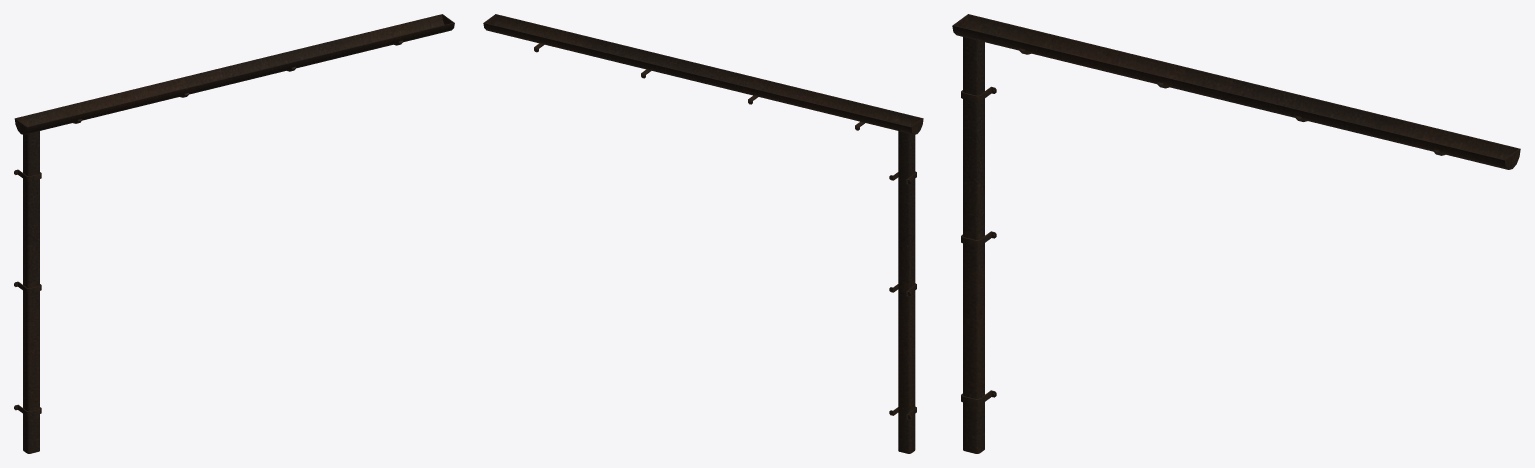
File: rainwater_pipe_hl_1_singular.fbx
The picture shows the model from 3 angles, left to right: view 1: azimuth 30°, elevation 25°; view 2: azimuth 150°, elevation 25°; view 3: azimuth 330°, elevation 25°; orthographic projection. The views are drawn at different scales.
Parts seen in each view (by area): view 1: rainwater_pipe_hl_1_singular; view 2: rainwater_pipe_hl_1_singular; view 3: rainwater_pipe_hl_1_singular.
Boxes of the visible parts, x1,y1,x2,y2 form: rainwater_pipe_hl_1_singular: (14, 14, 454, 453); rainwater_pipe_hl_1_singular: (483, 14, 923, 453); rainwater_pipe_hl_1_singular: (952, 14, 1520, 453).
Size of the model in its own units: 4 by 0.21 by 2.95.
